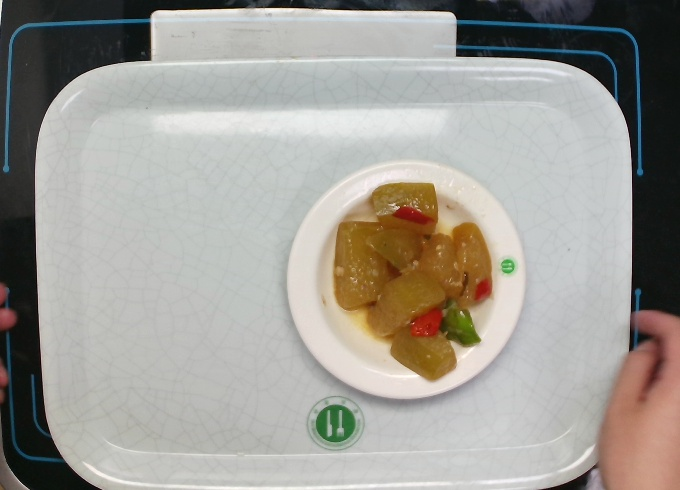WCQzf-Kuan_Bian_Yuan_Die: (280, 151, 530, 407)
